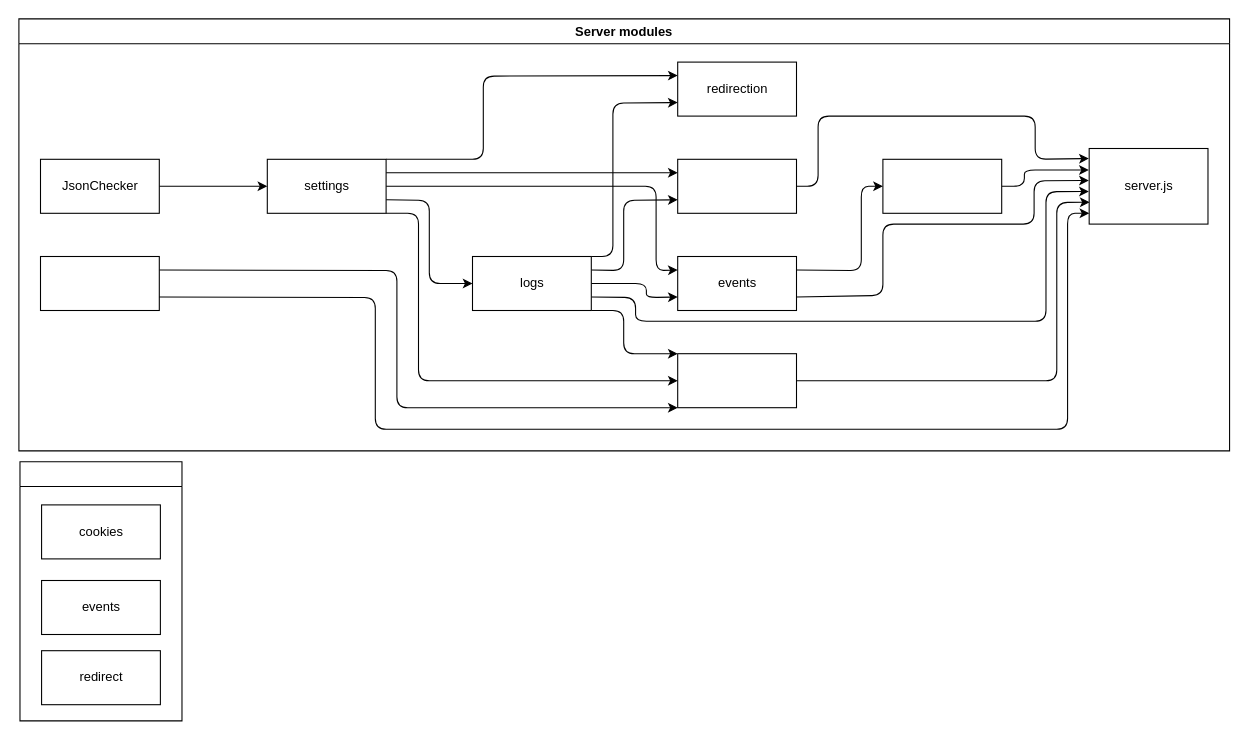
The diagram is 1248 pixels wide and 740 high, and some of its shapes have lost their labels. Here are the shapes that lost their labels. From the top down, the box of each, then its label:
(677, 158, 796, 213): loader
(882, 158, 1002, 213): cmd
(39, 255, 159, 310): URLGenerator
(677, 353, 796, 408): database
(19, 461, 182, 721): Client modules
